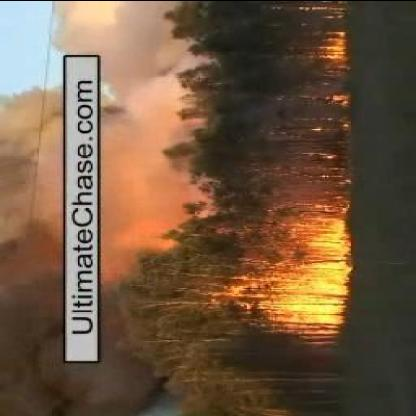-: (2, 85, 60, 265)
foggia-v2-map80-epoch100 - v1 4323: (263, 251, 346, 326)
